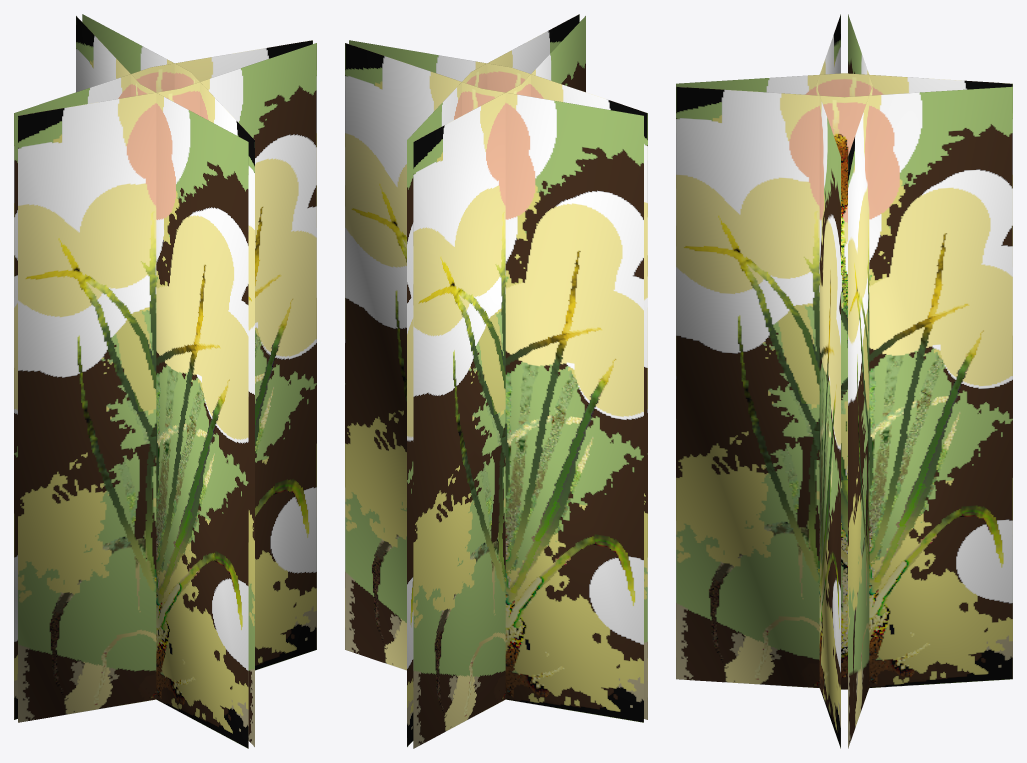
The model's file is cattails.glb.
The picture shows the model from 3 angles, left to right: view 1: azimuth 30°, elevation 25°; view 2: azimuth 150°, elevation 25°; view 3: azimuth 270°, elevation 25°; orthographic projection. The views are drawn at different scales.
Visible parts, largest first — view 1: cattails; view 2: cattails; view 3: cattails.
Boxes of the visible parts, bbox=[...] form: cattails: bbox=[14, 14, 316, 748]; cattails: bbox=[345, 14, 647, 748]; cattails: bbox=[676, 14, 1012, 748].
Size of the model in its own units: 3.66 by 7.1 by 3.66.
Materials: 1 (1 with a texture image).
